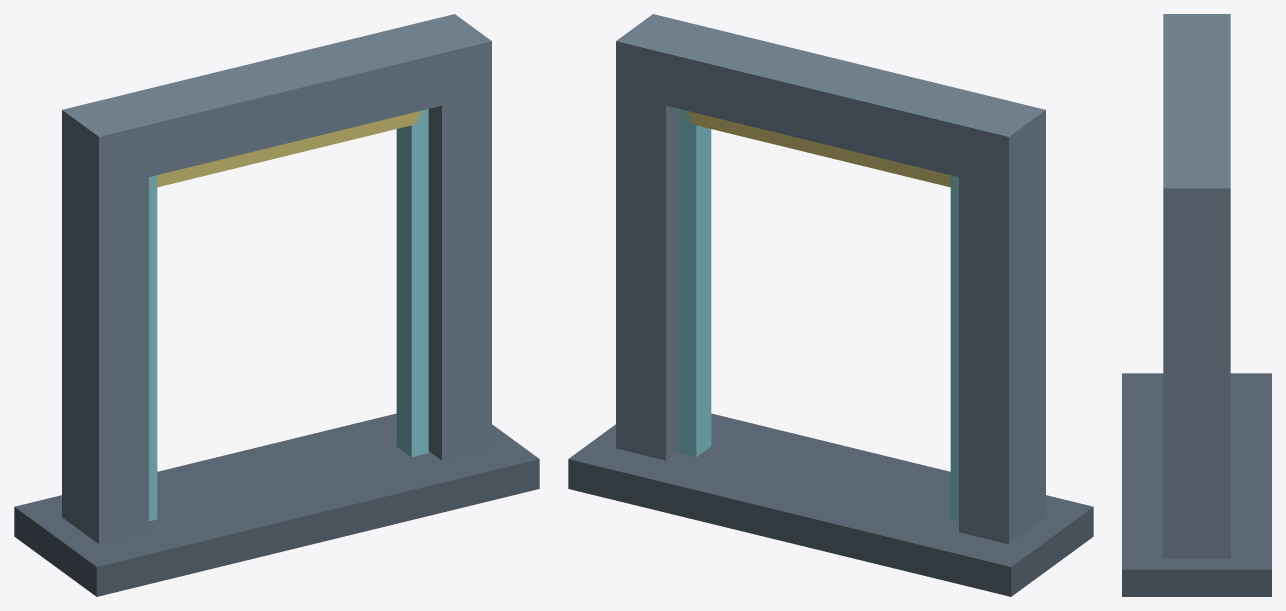
File: B08_GOAL_PORTAL_PROGRAM.glb
3 renders of one model, left to right at view 1: azimuth 30°, elevation 25°; view 2: azimuth 150°, elevation 25°; view 3: azimuth 270°, elevation 25°, orthographic. The views are drawn at different scales.
Parts seen in each view (by area): view 1: Base, TopBeam, LeftPillar, RightPillar, RightGlow, TopGlow, LeftGlow; view 2: Base, TopBeam, LeftPillar, RightPillar, RightGlow, TopGlow, LeftGlow; view 3: RightPillar, Base, TopBeam.
Part boxes in pixels (<box>): Base: <box>14,413,539,596</box>; TopBeam: <box>62,14,491,189</box>; LeftPillar: <box>62,129,148,544</box>; RightPillar: <box>428,60,491,460</box>; RightGlow: <box>396,109,428,457</box>; TopGlow: <box>149,110,423,188</box>; LeftGlow: <box>149,175,157,521</box>; Base: <box>568,413,1093,596</box>; TopBeam: <box>616,14,1045,188</box>; LeftPillar: <box>959,129,1045,544</box>; RightPillar: <box>616,60,679,460</box>; RightGlow: <box>679,109,711,457</box>; TopGlow: <box>684,110,958,189</box>; LeftGlow: <box>950,175,958,521</box>; RightPillar: <box>1163,205,1230,558</box>; Base: <box>1122,373,1271,596</box>; TopBeam: <box>1163,14,1230,235</box>.
Bounding box in the file's own units: 3.1 × 2.92 × 1.
